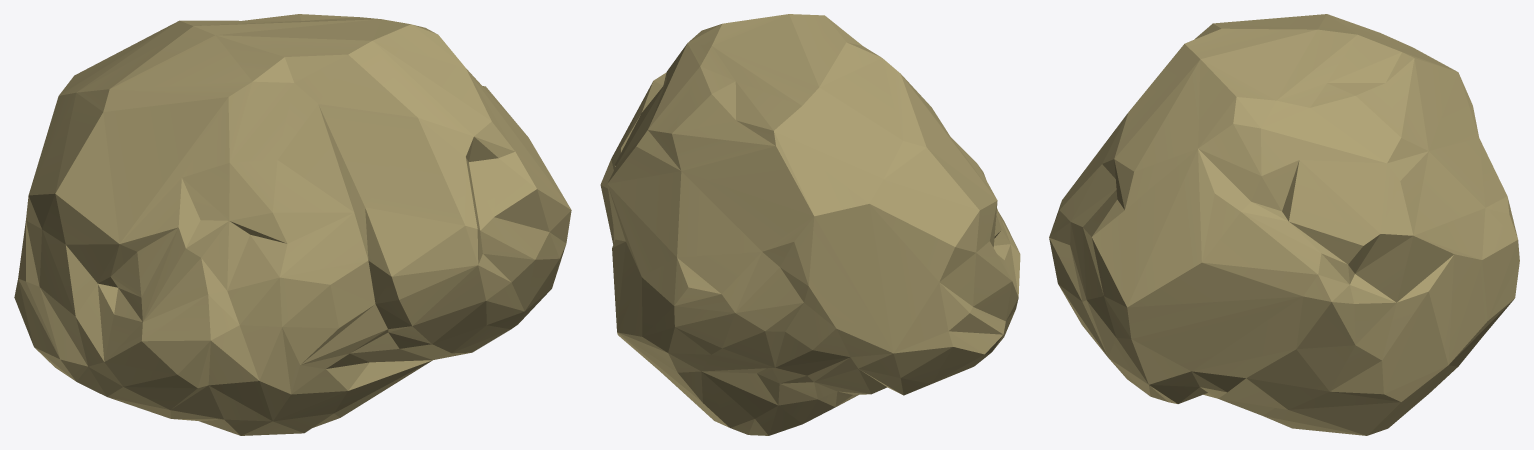
The model's file is SM_rock_52.fbx.
3 views of the same model, side by side, from view 1: azimuth 30°, elevation 25°; view 2: azimuth 150°, elevation 25°; view 3: azimuth 270°, elevation 25° (orthographic). The views are drawn at different scales.
Visible parts, largest first — view 1: rock_52; view 2: rock_52; view 3: rock_52.
Part boxes in pixels (<box>): rock_52: <box>14,14,571,435</box>; rock_52: <box>600,14,1020,435</box>; rock_52: <box>1049,14,1519,435</box>.
Size of the model in its own units: 300 by 254 by 289.
